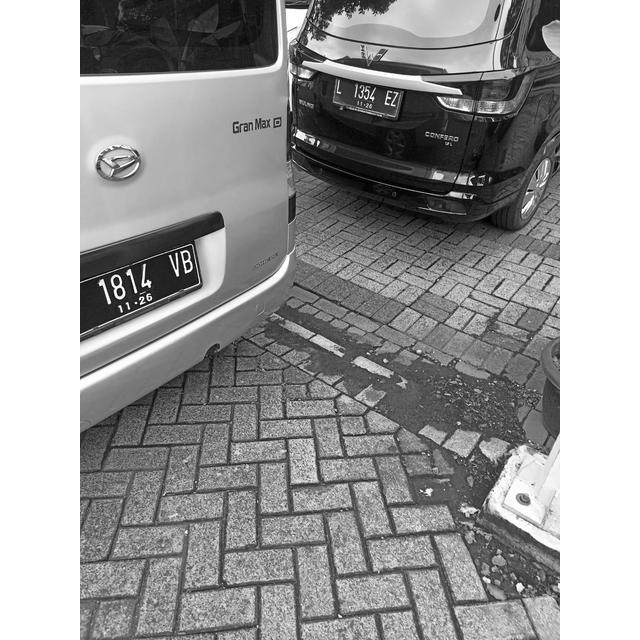license: (333, 77, 404, 117)
